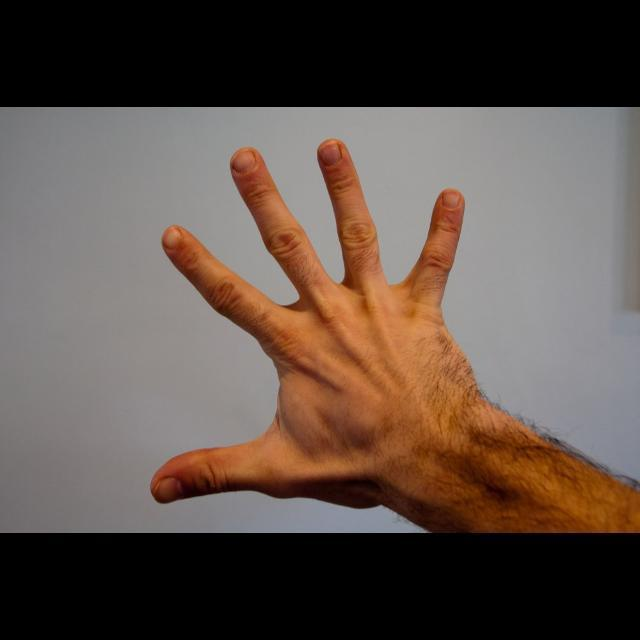bare_hand: (149, 137, 466, 508)
